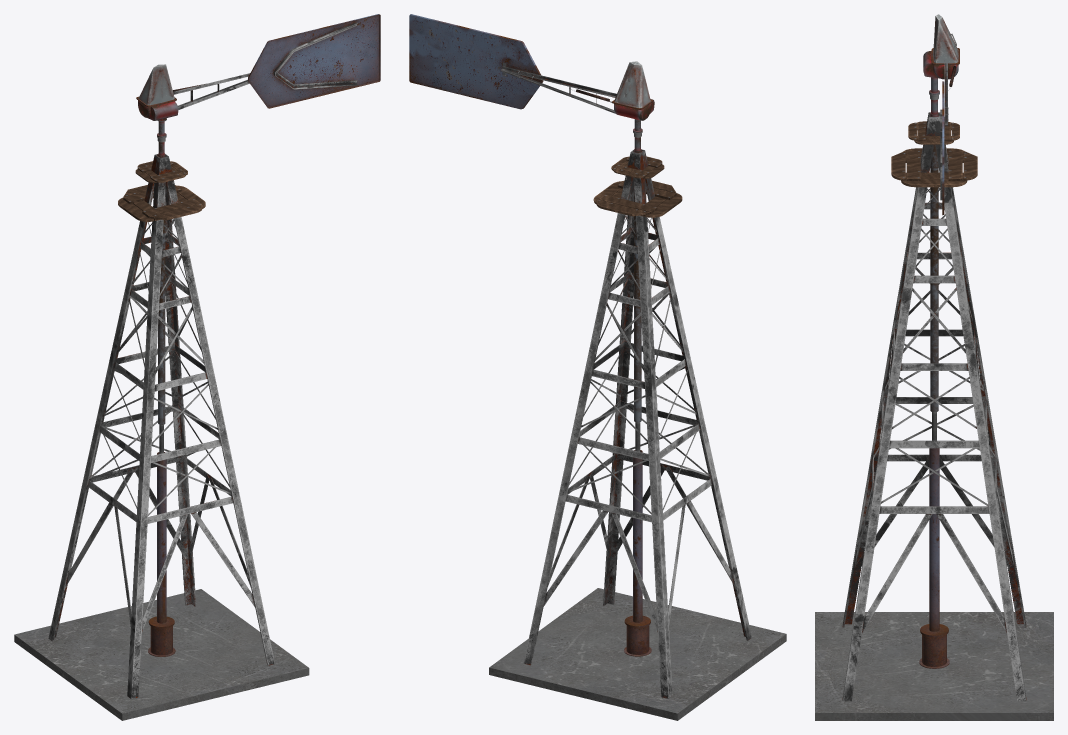
Rendered from bodyWindmill.obj.
3 views of the same model, side by side, from view 1: azimuth 30°, elevation 25°; view 2: azimuth 150°, elevation 25°; view 3: azimuth 270°, elevation 25° (orthographic). The views are drawn at different scales.
Visible parts, largest first — view 1: Cube.006_Metal_0, Cube.002_Surface_0, Cube.006_bluemetal_0, Cube.006_Wood_0, Cube.006_redmetla_0, Cube.006_metal3_0; view 2: Cube.006_Metal_0, Cube.002_Surface_0, Cube.006_bluemetal_0, Cube.006_Wood_0, Cube.006_redmetla_0, Cube.006_metal3_0; view 3: Cube.006_Metal_0, Cube.002_Surface_0, Cube.006_bluemetal_0, Cube.006_Wood_0, Cube.006_redmetla_0, Cube.006_metal3_0.
Boxes of the visible parts, left/top/right/bottom form: Cube.006_Metal_0: left=48, top=22, right=358, bottom=698; Cube.002_Surface_0: left=14, top=589, right=309, bottom=720; Cube.006_bluemetal_0: left=136, top=14, right=380, bottom=656; Cube.006_Wood_0: left=118, top=161, right=205, bottom=221; Cube.006_redmetla_0: left=138, top=100, right=178, bottom=424; Cube.006_metal3_0: left=138, top=64, right=174, bottom=105; Cube.006_Metal_0: left=501, top=62, right=751, bottom=698; Cube.002_Surface_0: left=489, top=588, right=786, bottom=720; Cube.006_bluemetal_0: left=409, top=14, right=652, bottom=656; Cube.006_Wood_0: left=593, top=156, right=682, bottom=217; Cube.006_redmetla_0: left=609, top=99, right=654, bottom=422; Cube.006_metal3_0: left=614, top=61, right=650, bottom=107; Cube.006_Metal_0: left=842, top=60, right=1026, bottom=701; Cube.002_Surface_0: left=815, top=612, right=1053, bottom=720; Cube.006_bluemetal_0: left=919, top=48, right=959, bottom=668; Cube.006_Wood_0: left=891, top=121, right=977, bottom=187; Cube.006_redmetla_0: left=923, top=51, right=958, bottom=412; Cube.006_metal3_0: left=933, top=14, right=958, bottom=63.
Size of the model in its own units: 4.76 by 8.53 by 2.82.
10 materials, 10 textured.
